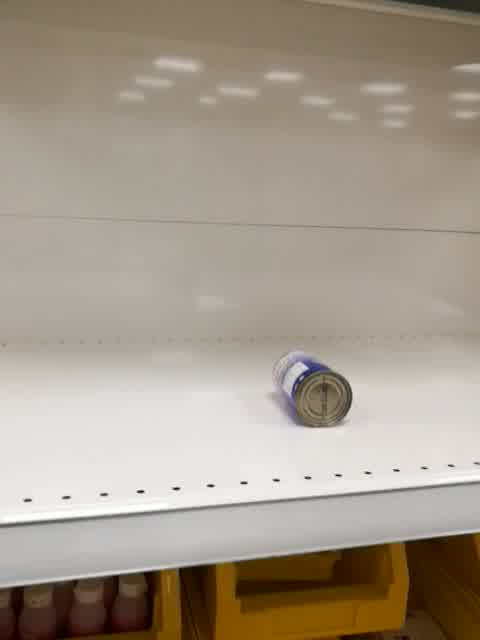sardine: (269, 348, 353, 429)
